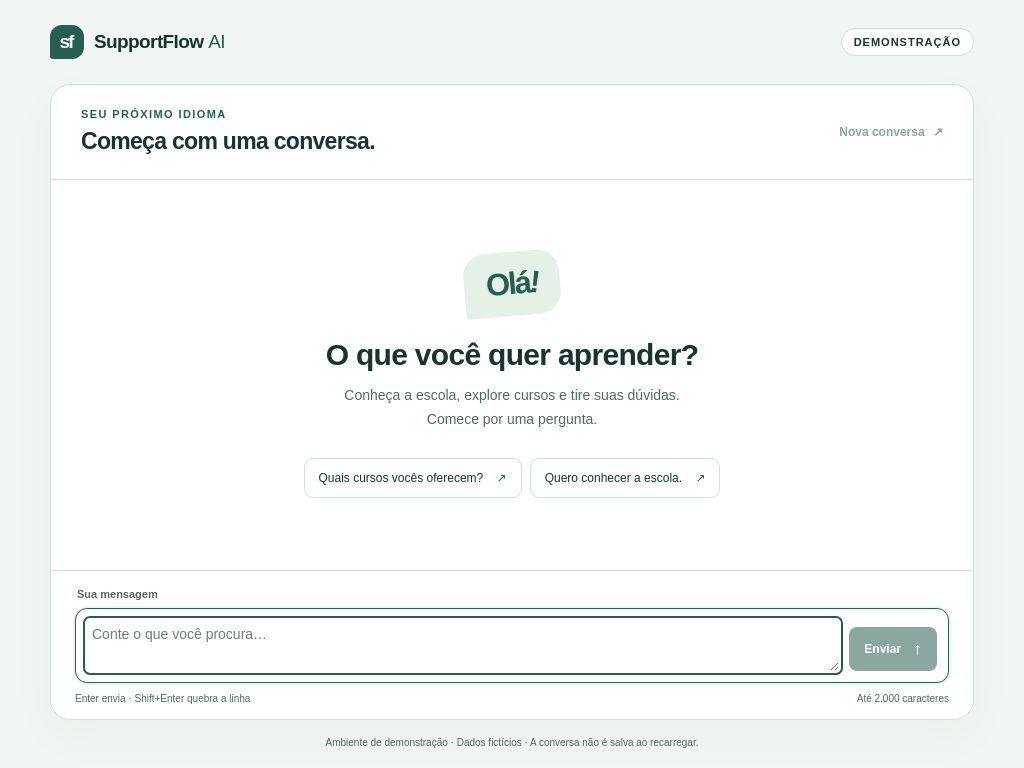
Scenario: prévia oficial e confirmação de cadastro › envia somente IDs e renderiza recibo created apesar de prosa divergente
Type "Quero cadastrar meu interesse." into the text box labelled "Sua mensagem" at (463, 646), box [87,620,839,671]
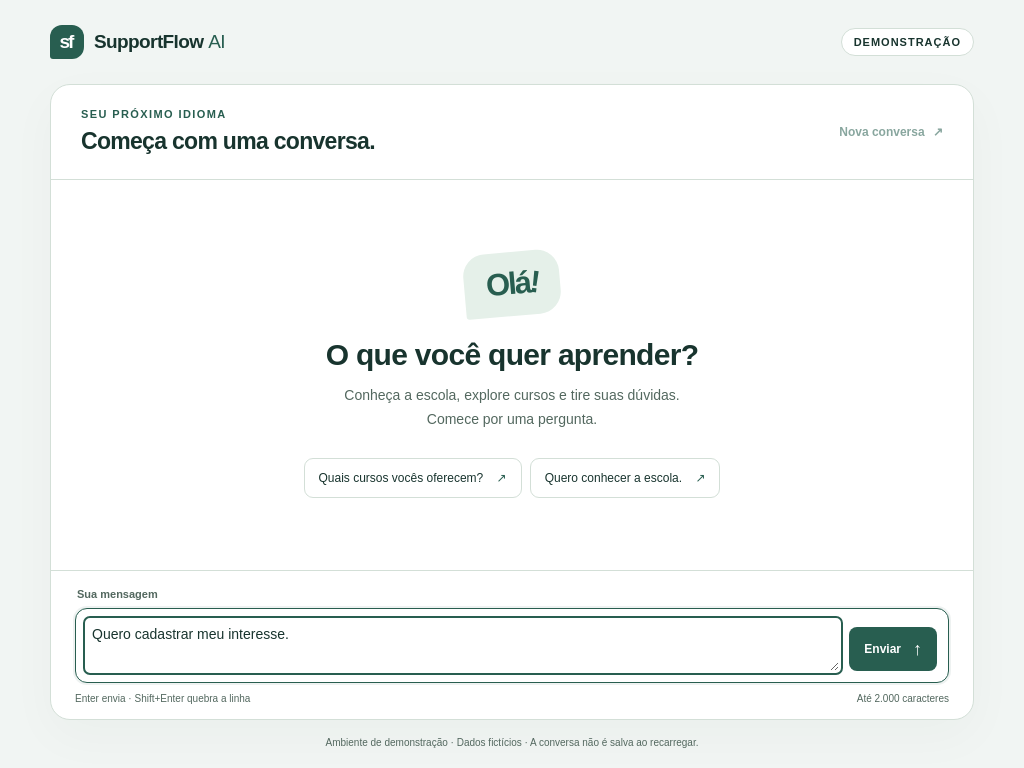
Submit the form named "Enviar mensagem", box [75,588,949,704]
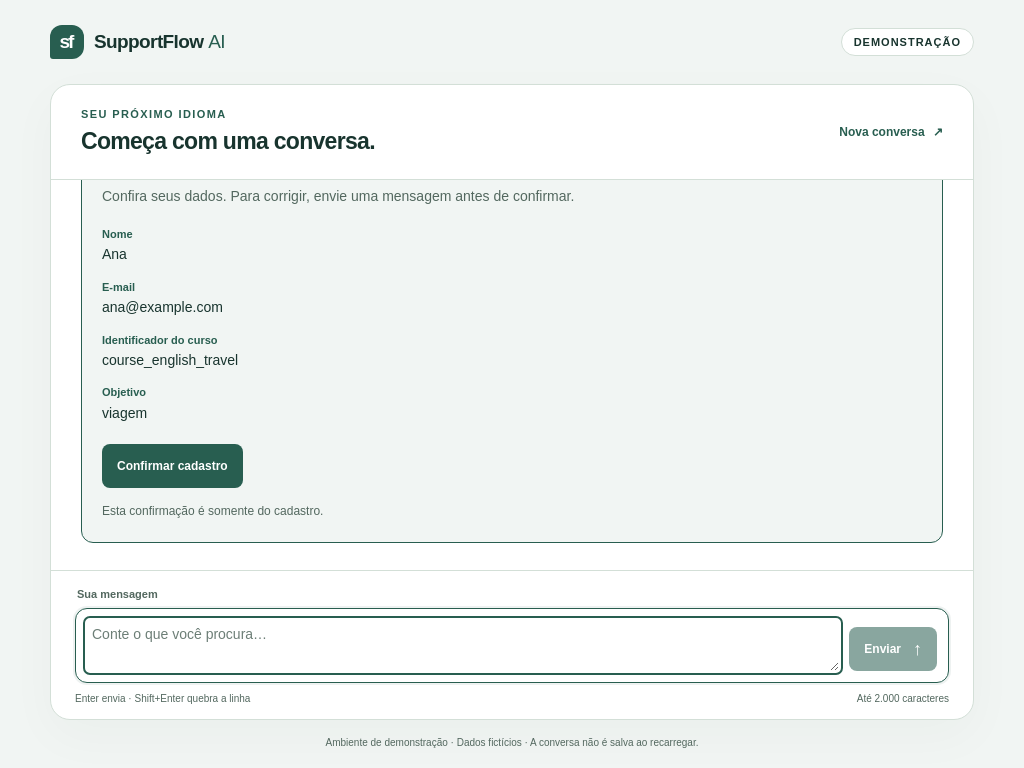
Result: the element "Revisar cadastro" is shown at [81,180,943,543]
Click the button "Confirmar cadastro" at (172, 466), box [102,444,243,488]
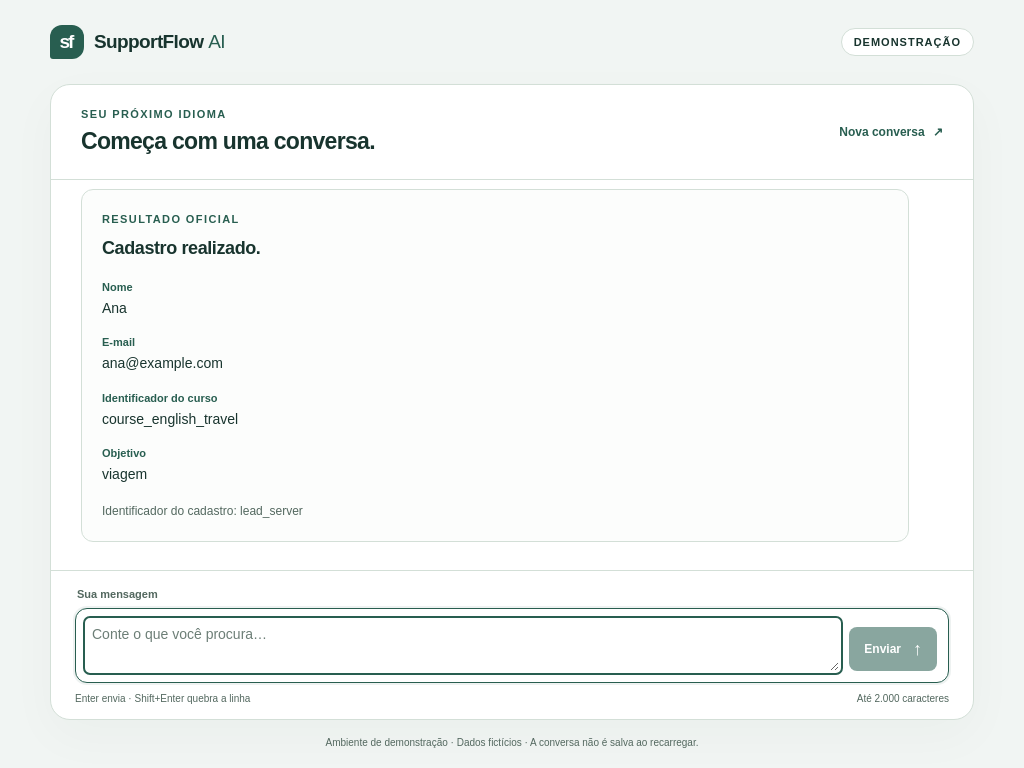
Result: the heading "Cadastro realizado." is shown at [102,238,260,258]
Result: the element named "Resultado oficial do cadastro" shows "ana@example.com" at [102,355,223,371]
Result: the element named "Resultado oficial do cadastro" shows "lead_server" at [240,504,303,518]
